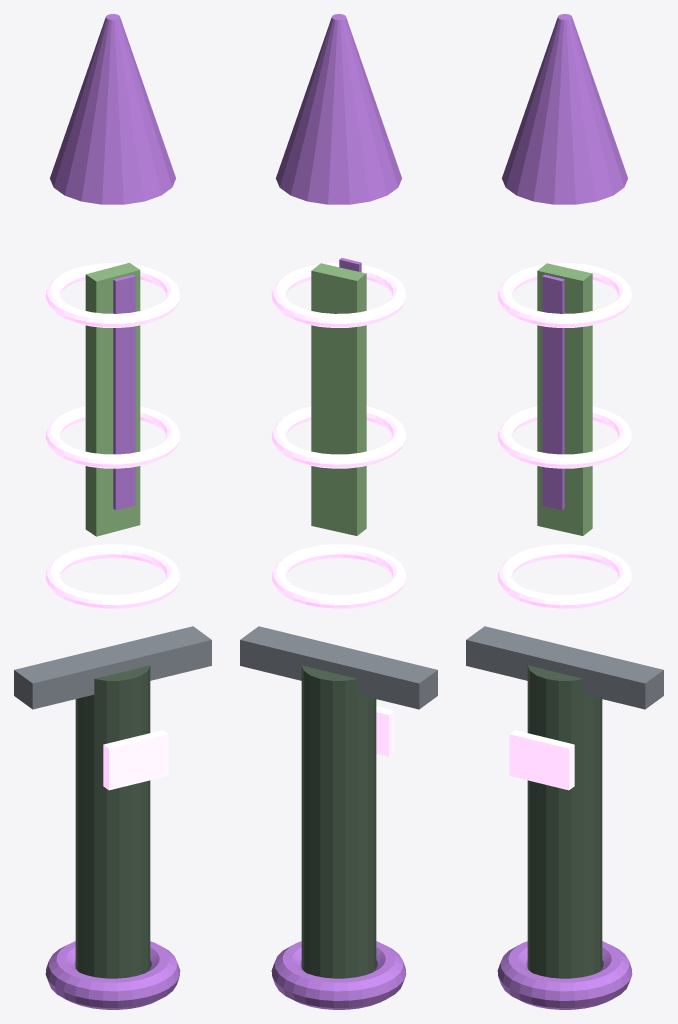
File: asset.glb
3 renders of one model, left to right at view 1: azimuth 30°, elevation 25°; view 2: azimuth 150°, elevation 25°; view 3: azimuth 330°, elevation 25°, orthographic.
Parts seen in each view (by area): view 1: Grip, BladeTip, BladeCore, Guard, Pommel, BladeEdge, EnergyBand_1.18, EnergyBand_2.26, EnergyBand_1.72, IdentityPlate; view 2: Grip, BladeTip, BladeCore, Guard, Pommel, EnergyBand_1.18, EnergyBand_2.26, EnergyBand_1.72, IdentityPlate; view 3: Grip, BladeTip, BladeCore, Guard, Pommel, BladeEdge, EnergyBand_1.18, EnergyBand_2.26, EnergyBand_1.72, IdentityPlate.
Part boxes in pixels (x1,y1,x2,y2): Grip: (75,665,150,978); BladeTip: (50,14,175,204); BladeCore: (85,263,140,536); Guard: (14,626,211,709); Pommel: (45,941,180,1009); BladeEdge: (113,274,135,510); EnergyBand_1.18: (45,544,180,609); EnergyBand_2.26: (45,263,180,327); EnergyBand_1.72: (45,406,180,468); IdentityPlate: (103,730,168,790); Grip: (301,665,376,978); BladeTip: (276,14,401,204); BladeCore: (311,263,366,535); Guard: (240,626,437,709); Pommel: (271,941,406,1009); EnergyBand_1.18: (271,544,406,609); EnergyBand_2.26: (271,263,406,327); EnergyBand_1.72: (271,406,406,468); IdentityPlate: (376,706,394,756); Grip: (527,665,602,978); BladeTip: (502,14,627,204); BladeCore: (537,263,592,535); Guard: (466,626,663,709); Pommel: (497,941,632,1009); BladeEdge: (542,274,564,510); EnergyBand_1.18: (497,544,632,609); EnergyBand_2.26: (497,263,632,327); EnergyBand_1.72: (497,406,632,468); IdentityPlate: (509,730,574,790).
Size of the model in its own units: 0.72 by 3.72 by 0.47.
